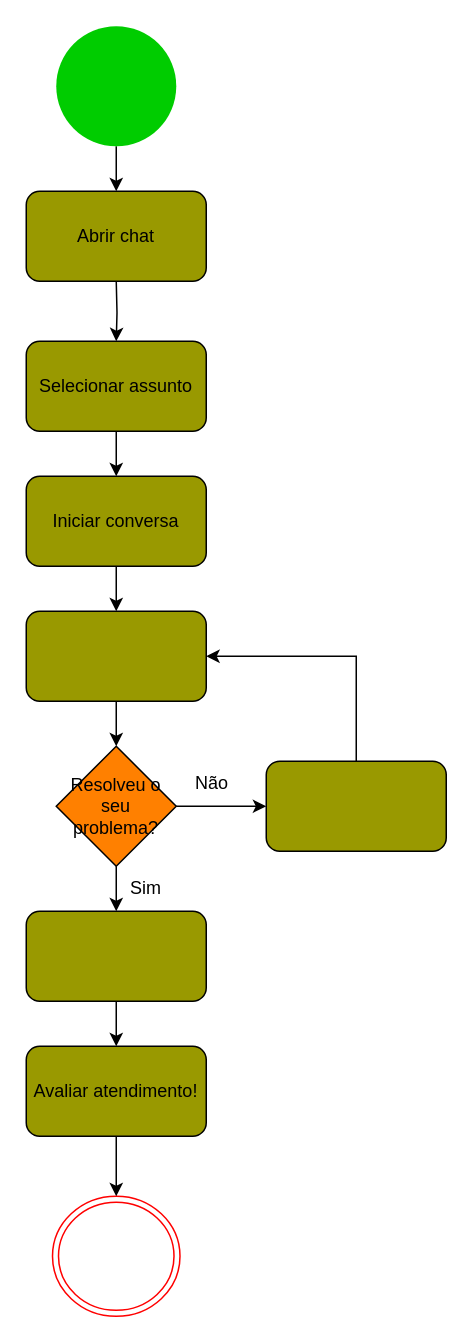
The diagram is 473 pixels wide and 1343 high, and some of its shapes have lost their labels. Here are the shapes that lost their labels. From the top down, the centre of each, then its label:
At pixel 115 655: "Atendente responde".
At pixel 355 805: "Continuar conversa".
At pixel 115 955: "Encerrar conversa".
